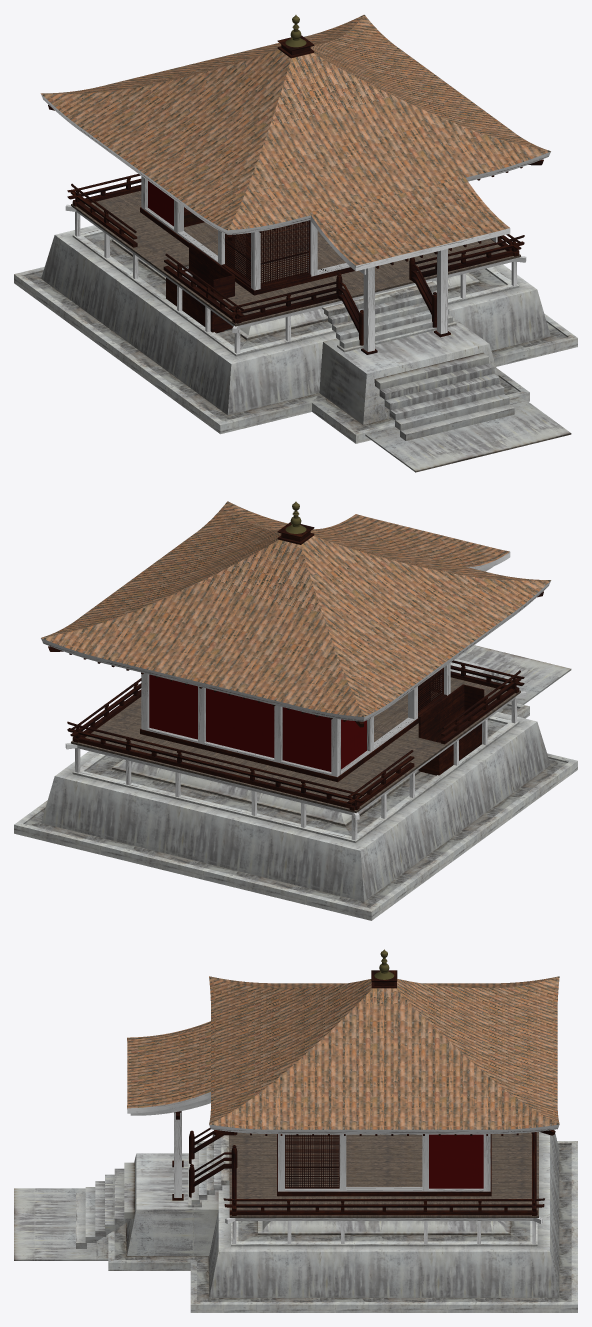
3 views of the same model, one above another, from view 1: azimuth 30°, elevation 25°; view 2: azimuth 150°, elevation 25°; view 3: azimuth 270°, elevation 25° (orthographic). The views are drawn at different scales.
Parts seen in each view (by area): view 1: House; view 2: House; view 3: House.
Part boxes in pixels (<box>): House: <box>14,14,577,472</box>; House: <box>14,501,577,920</box>; House: <box>14,949,577,1312</box>.
Bounding box in the file's own units: 1223 × 1011 × 1781.
Materials: 7 (6 with a texture image).
